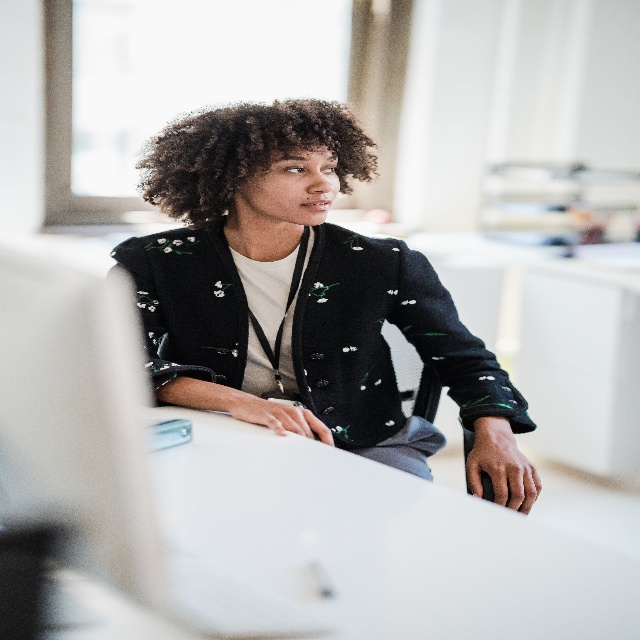Sin_guantes: (464, 433, 545, 518), (231, 388, 332, 439)
